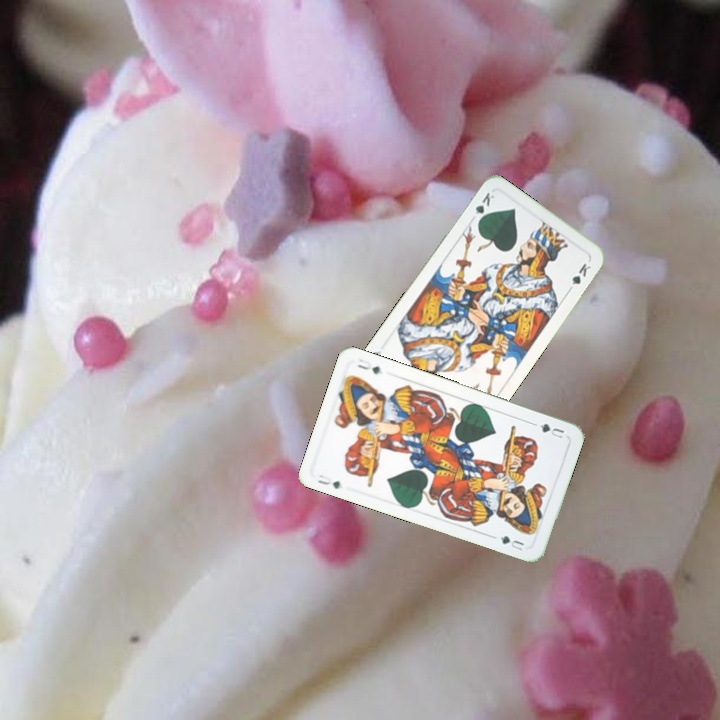GK: (471, 188, 497, 226)
GU: (535, 419, 567, 441), (313, 470, 343, 491)
